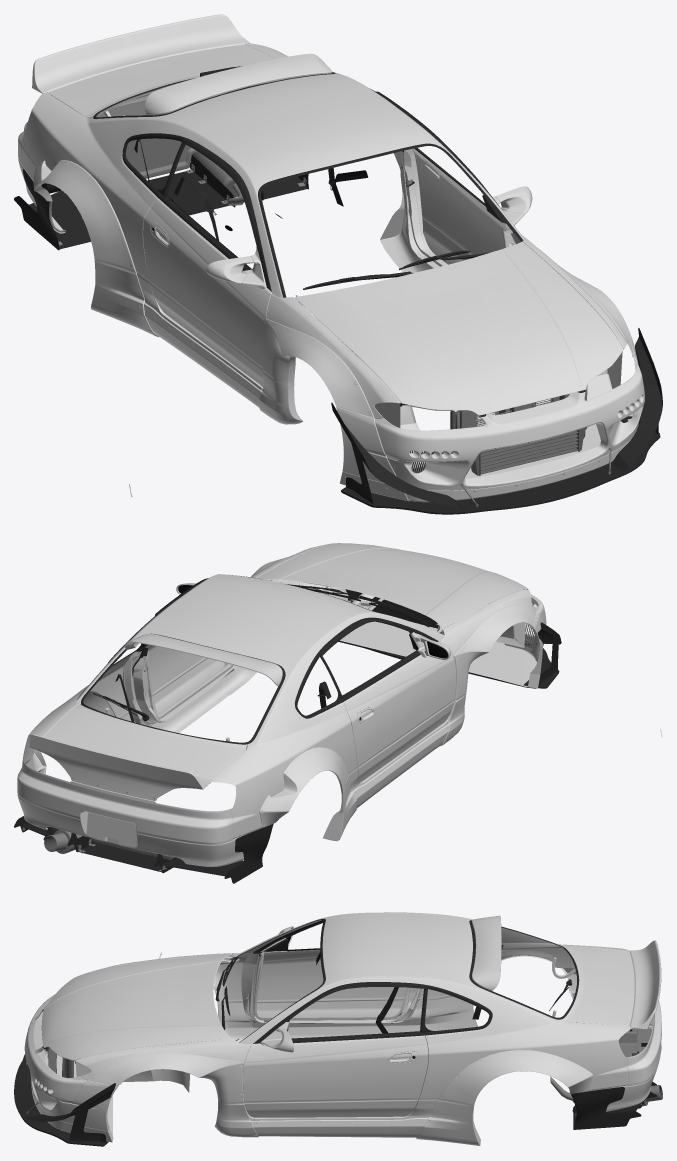
File: s15body2.glb
3 views of the same model, one above another, from view 1: azimuth 30°, elevation 25°; view 2: azimuth 150°, elevation 25°; view 3: azimuth 270°, elevation 25° (orthographic). The views are drawn at different scales.
Visible parts, largest first — view 1: S15:Kit1_Coloured_Geo_lodA_Kit1_Coloured_Geo_lodA_Nissan_Si; view 2: S15:Kit1_Coloured_Geo_lodA_Kit1_Coloured_Geo_lodA_Nissan_Si; view 3: S15:Kit1_Coloured_Geo_lodA_Kit1_Coloured_Geo_lodA_Nissan_Si.
Boxes of the visible parts, x1,y1,x2,y2 form: S15:Kit1_Coloured_Geo_lodA_Kit1_Coloured_Geo_lodA_Nissan_Si: [14, 14, 662, 514]; S15:Kit1_Coloured_Geo_lodA_Kit1_Coloured_Geo_lodA_Nissan_Si: [14, 543, 662, 883]; S15:Kit1_Coloured_Geo_lodA_Kit1_Coloured_Geo_lodA_Nissan_Si: [14, 912, 662, 1146].
Size of the model in its own units: 2.99 by 1.18 by 4.54.
Materials: 3 (2 with a texture image).
